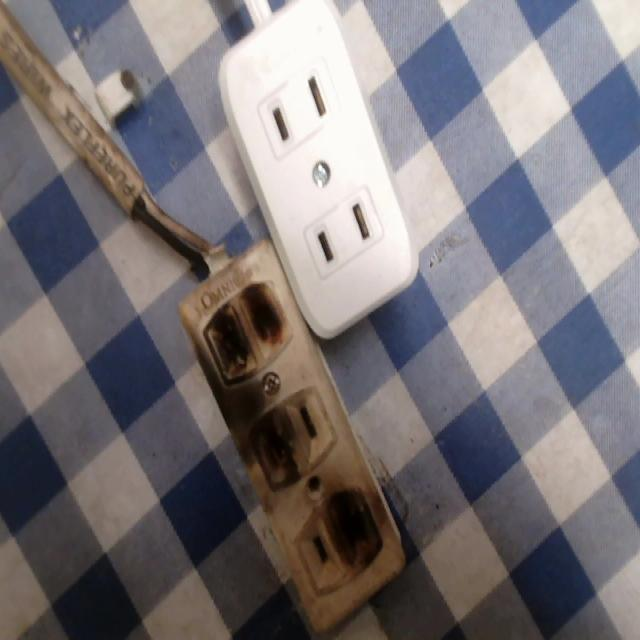-: (199, 276, 293, 384), (319, 475, 392, 565), (239, 404, 303, 481)
